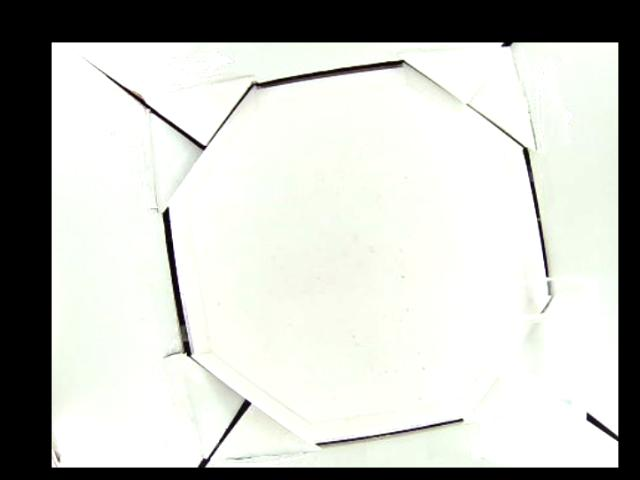Cup: (472, 277, 597, 435)
